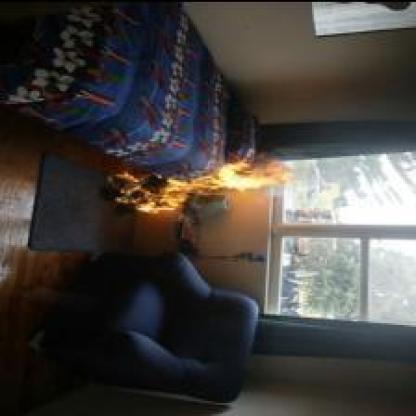Fire: (96, 141, 300, 214)
